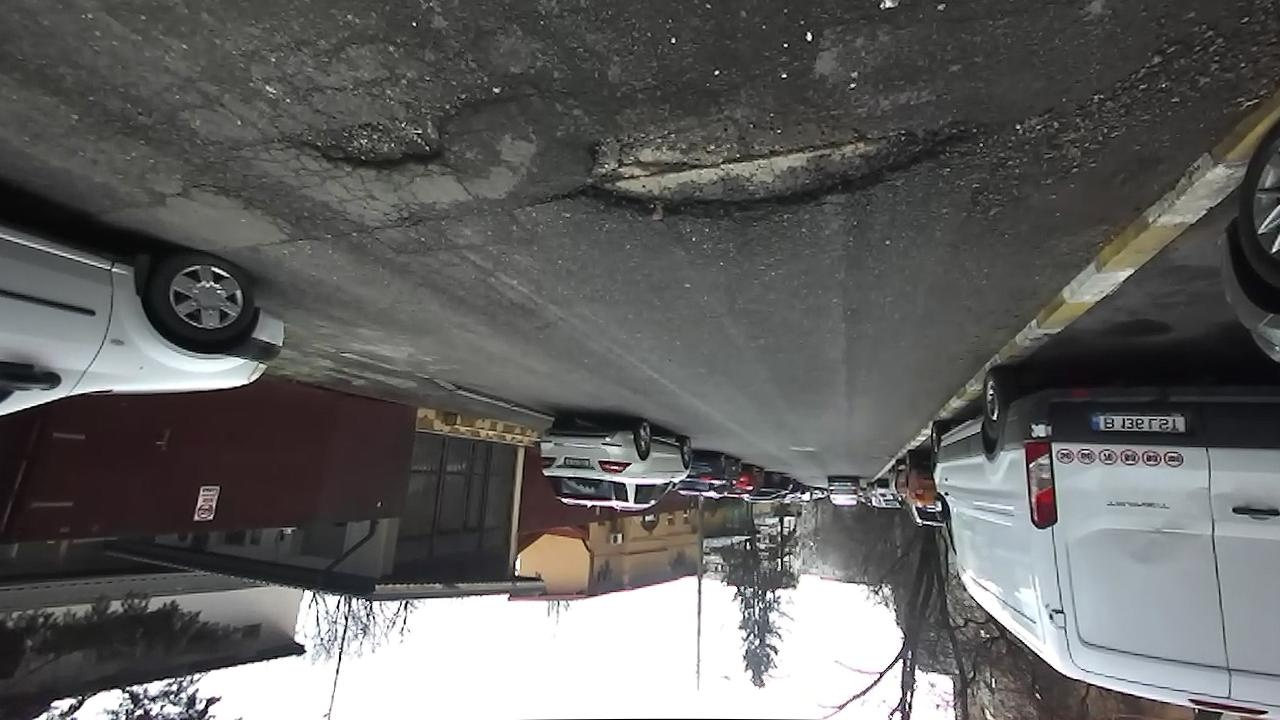pothole: (553, 92, 996, 226), (287, 90, 497, 179)
